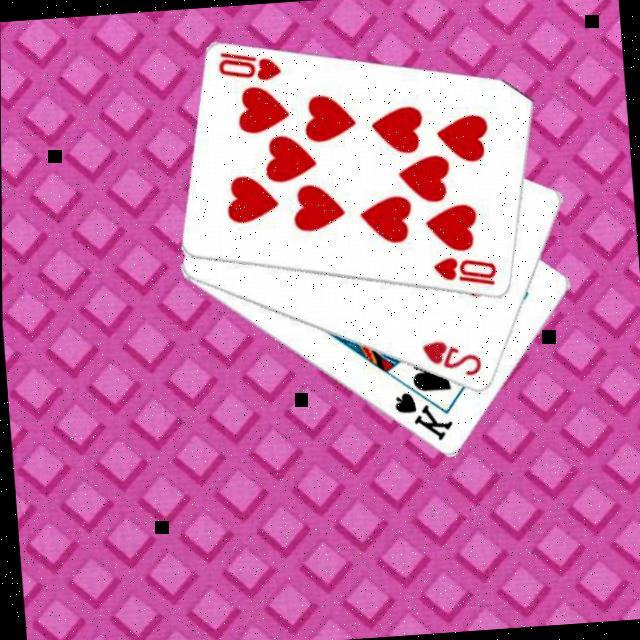10H: (216, 43, 286, 86), (431, 250, 502, 292)
2H: (419, 334, 486, 381)
KS: (390, 384, 458, 446)
